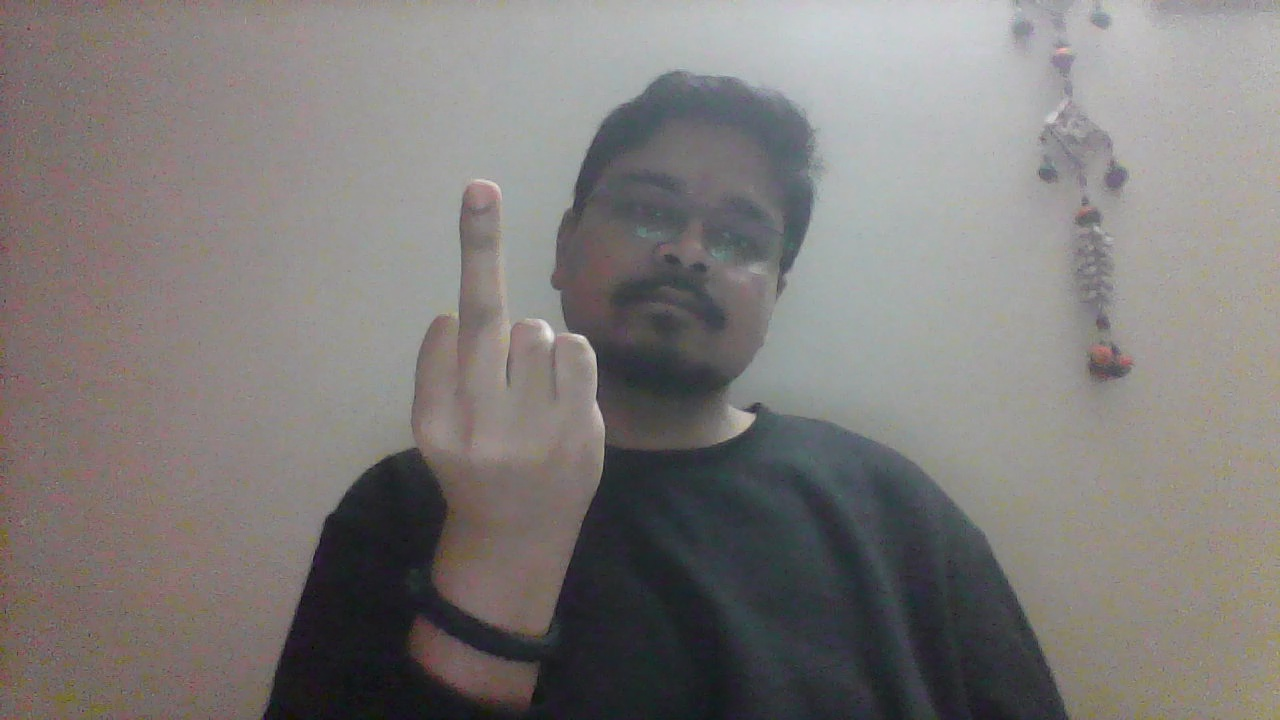Fuck Off: (409, 179, 608, 547)
